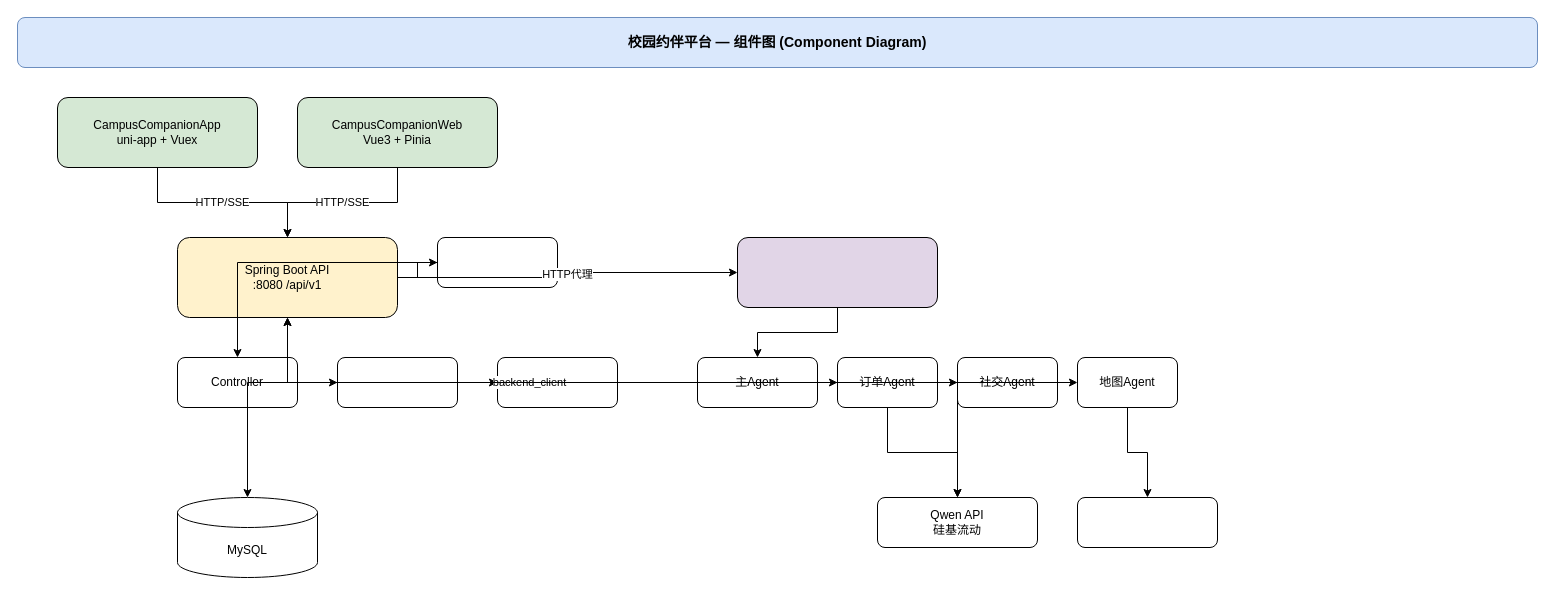
The diagram is 1555 pixels wide and 595 high, and some of its shapes have lost their labels. Each missing label, with the centre of its shape:
"Python Agent FastAPI :5001" belongs at point 837,272.
"Repository" belongs at point 557,382.
"Security JWT" belongs at point 497,262.
"Service" belongs at point 397,382.
"高德 MCP" belongs at point 1147,522.
